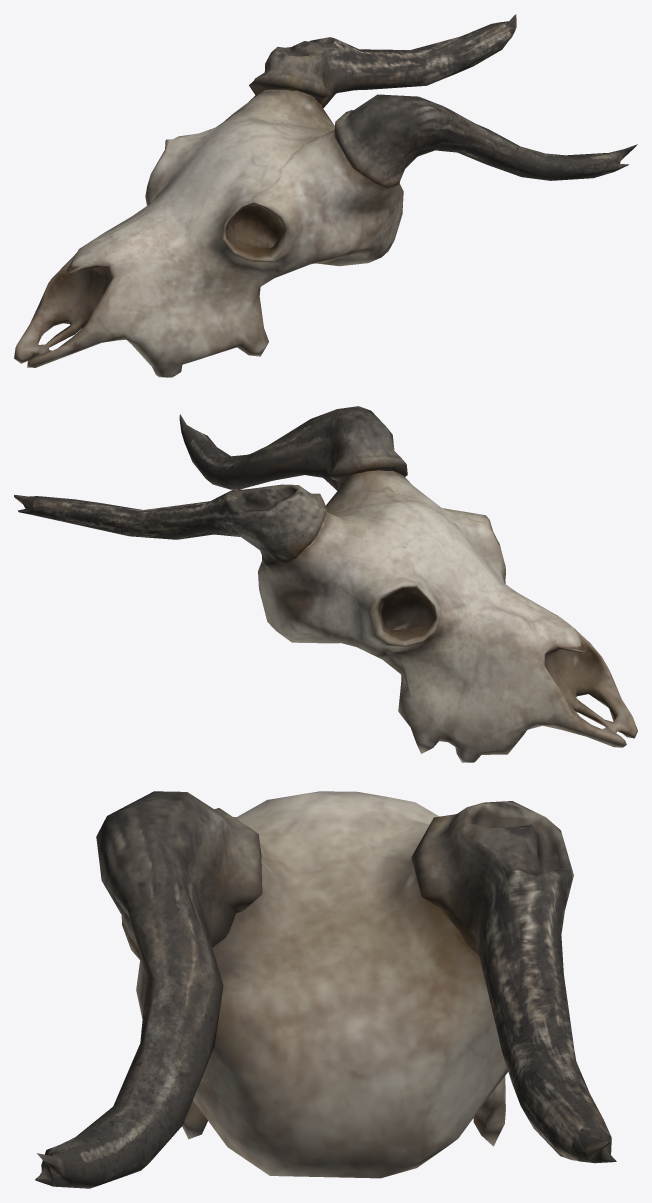
Rendered from SM_Bone01.fbx.
3 renders of one model, top to bottom at view 1: azimuth 30°, elevation 25°; view 2: azimuth 150°, elevation 25°; view 3: azimuth 270°, elevation 25°, orthographic. The views are drawn at different scales.
Visible parts, largest first — view 1: SM_Bone01_LOD0; view 2: SM_Bone01_LOD0; view 3: SM_Bone01_LOD0.
Part boxes in pixels (bbox=[...]): SM_Bone01_LOD0: bbox=[14, 14, 637, 377]; SM_Bone01_LOD0: bbox=[14, 406, 637, 762]; SM_Bone01_LOD0: bbox=[35, 791, 616, 1188].
Size of the model in its own units: 87.13 by 39.69 by 37.04.
